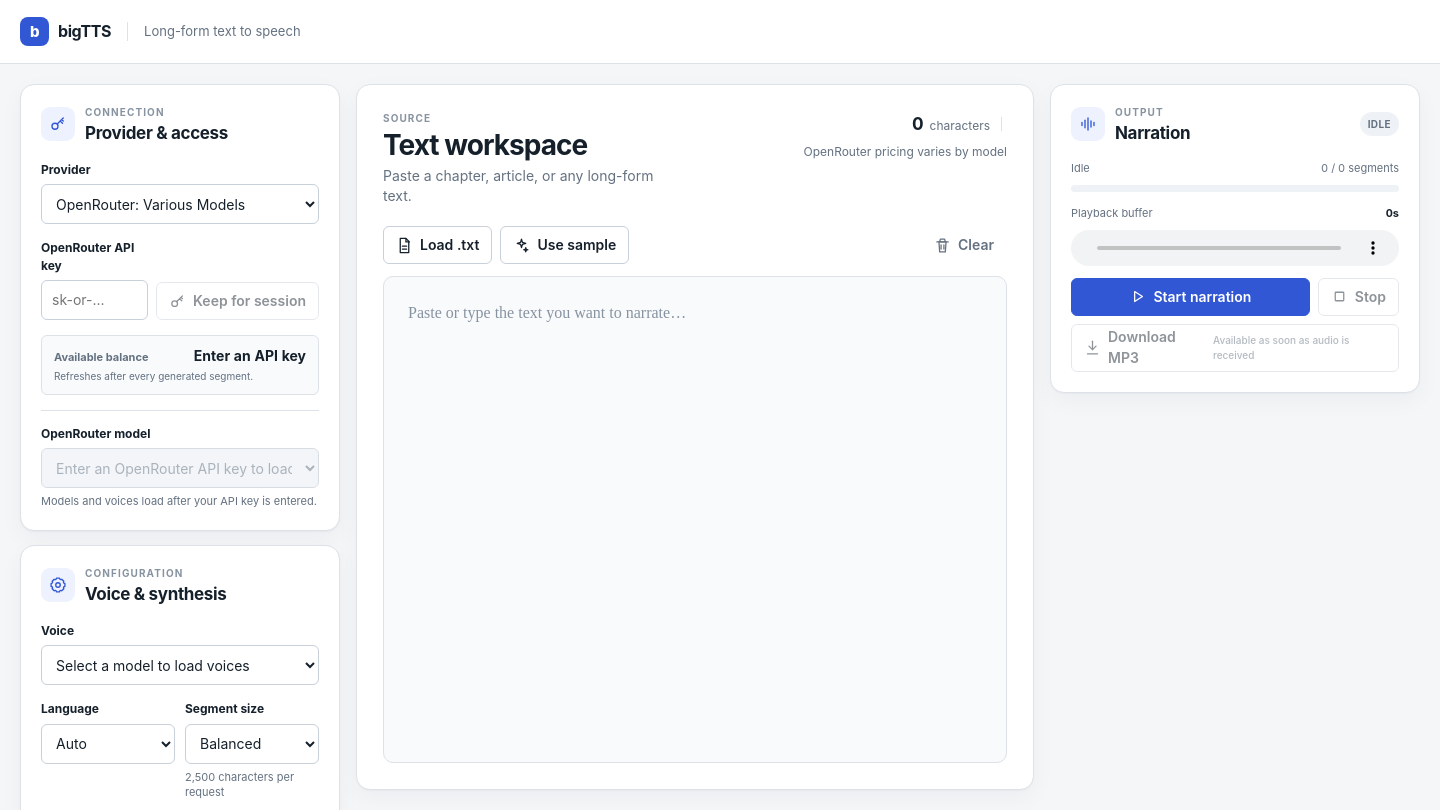
it: bigTTS application shell › loads and clears the sample while updating text statistics
Click the button "Use sample" at (565, 245), box [500, 226, 629, 264]
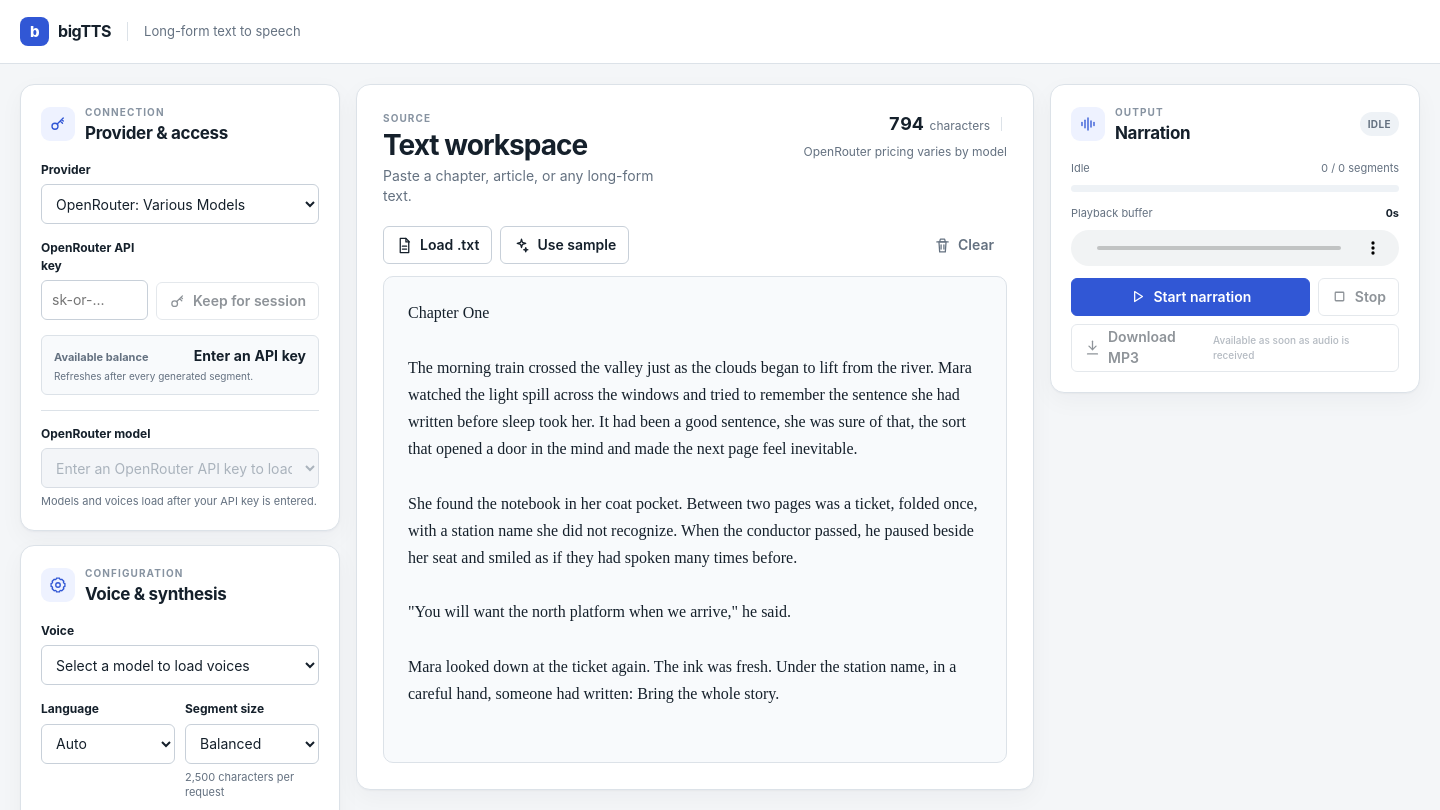
Expected: the element named "Text statistics" does not show "0characters", [804, 113, 1007, 159]
Click the button "Clear" at (964, 245), box [921, 226, 1007, 264]
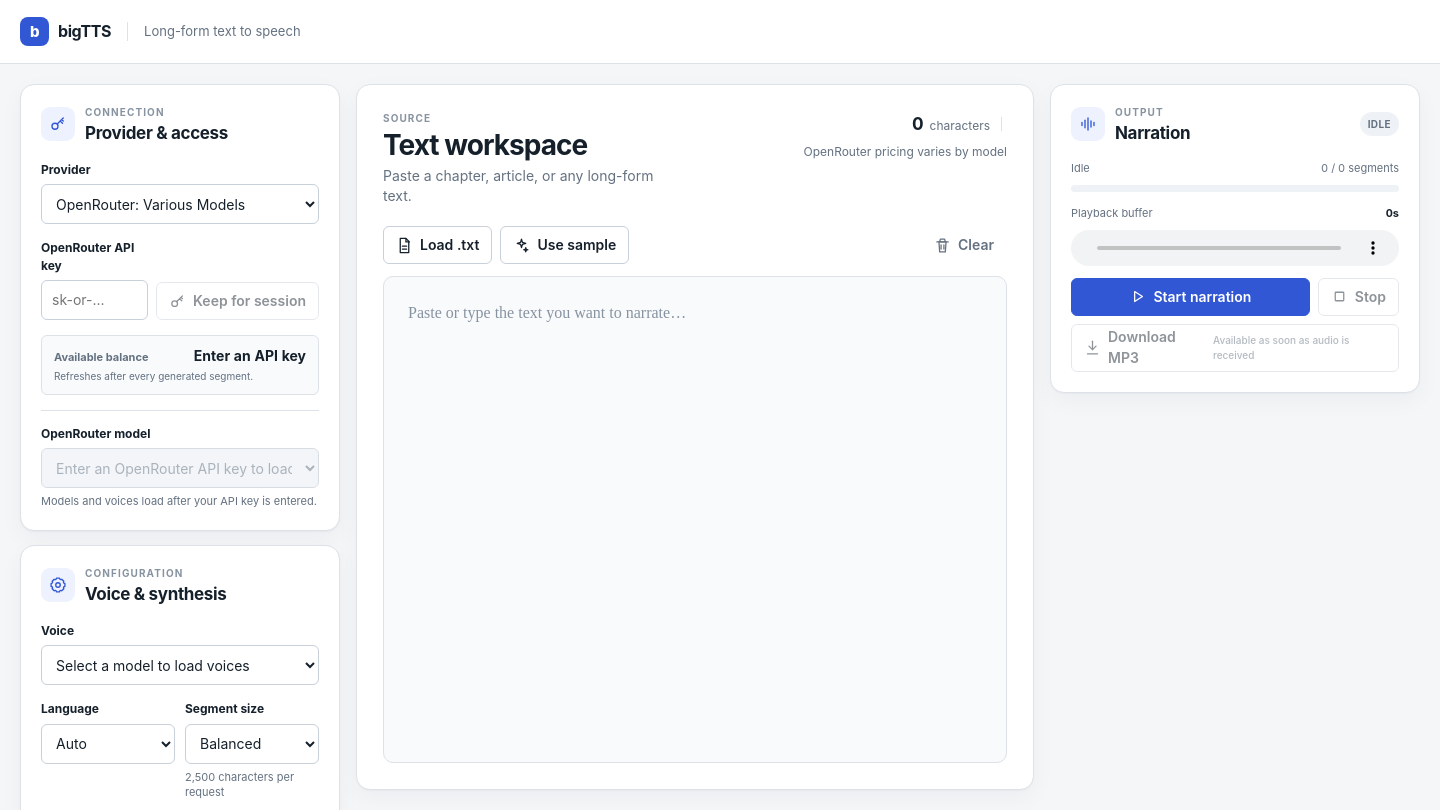
Now the text box named "Book or chapter text" is empty, box [383, 276, 1007, 763]
